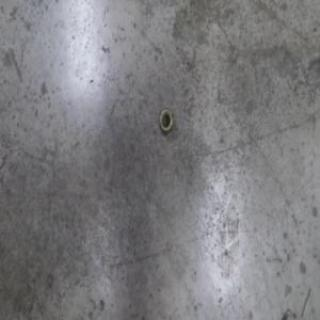Nuttrack_idkeyframe: (158, 105, 173, 135)
